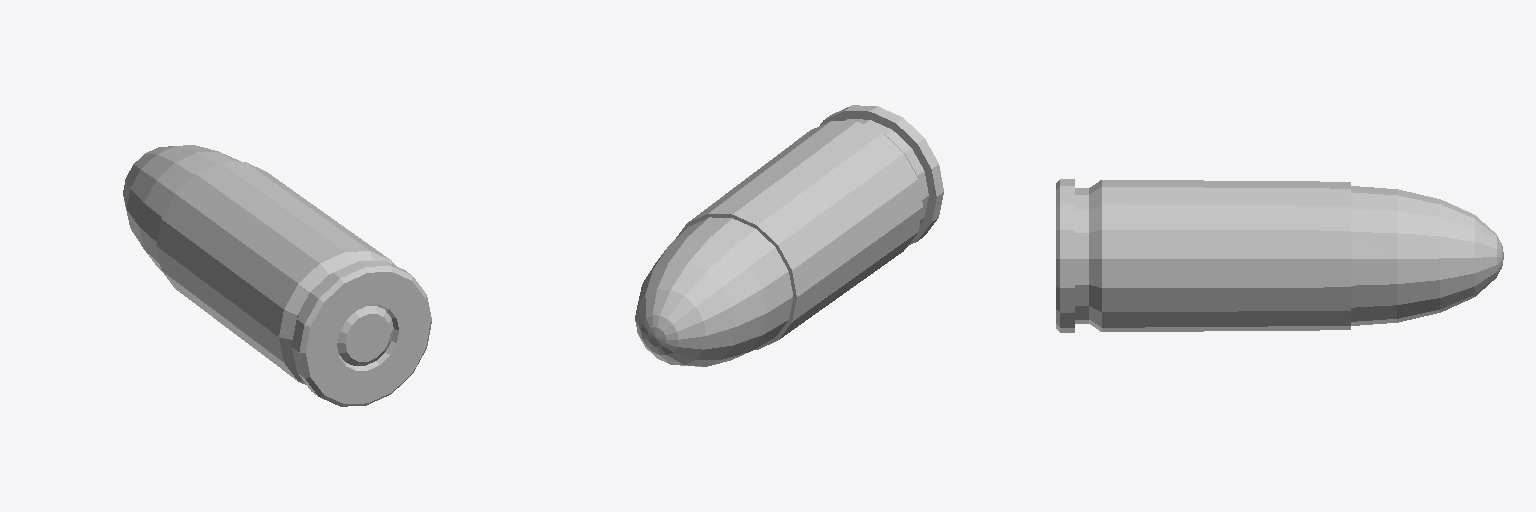
Rendered from 9mm Luger.obj.
3 renders of one model, left to right at view 1: azimuth 30°, elevation 25°; view 2: azimuth 150°, elevation 25°; view 3: azimuth 270°, elevation 25°, orthographic.
Parts seen in each view (by area): view 1: 9mm_Luger; view 2: 9mm_Luger; view 3: 9mm_Luger.
Boxes of the visible parts, <box> form: 9mm_Luger: <box>123,145,431,406</box>; 9mm_Luger: <box>635,105,943,366</box>; 9mm_Luger: <box>1056,179,1503,332</box>.
Size of the model in its own units: 0.01 by 0.01 by 0.0291.